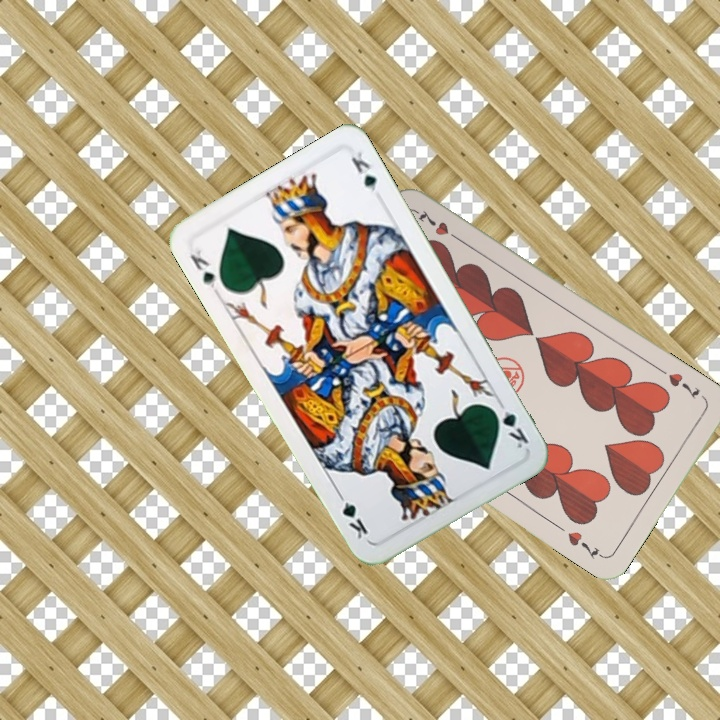GK: (487, 397, 532, 451), (185, 245, 219, 291)
H7: (664, 368, 703, 401)
